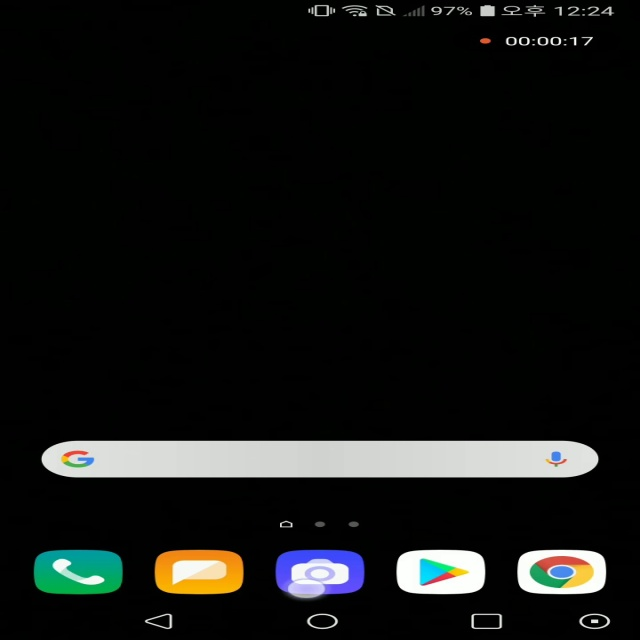Cursor: (284, 578, 328, 600)
